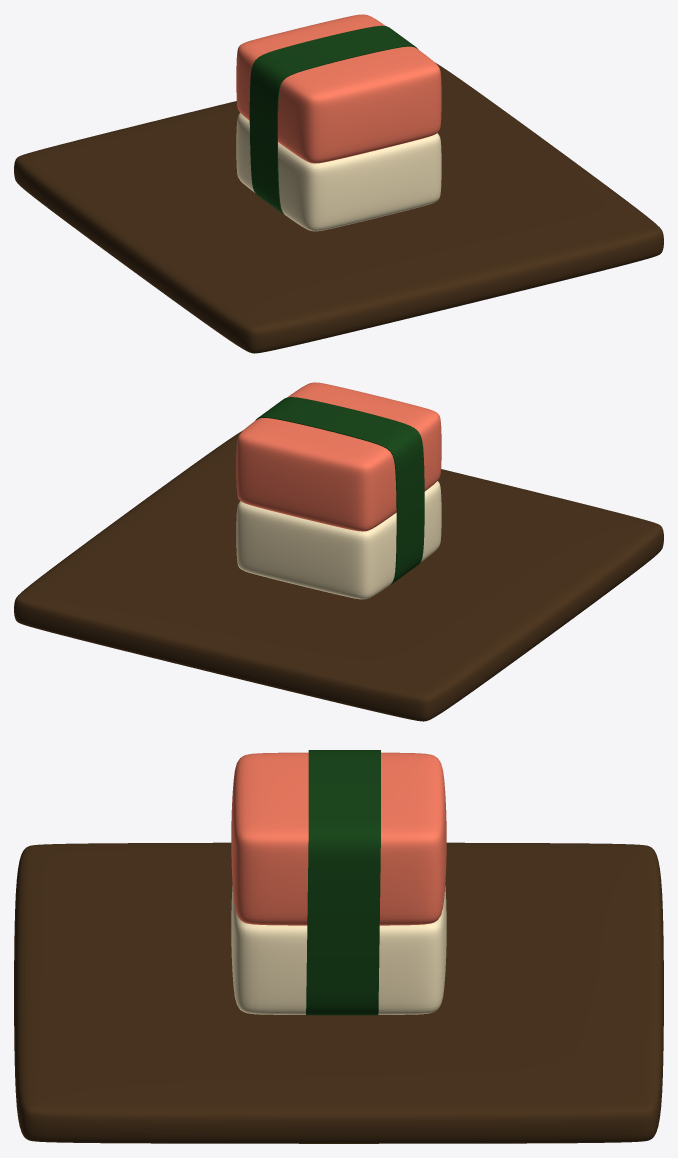
The model's file is roll.fbx.
3 views of the same model, one above another, from view 1: azimuth 30°, elevation 25°; view 2: azimuth 150°, elevation 25°; view 3: azimuth 270°, elevation 25° (orthographic). The views are drawn at different scales.
Visible parts, largest first — view 1: tabbel, rice.001, rice, nori; view 2: tabbel, rice.001, rice, nori; view 3: tabbel, rice.001, nori, rice.
Part boxes in pixels (box(x1,y1,x2,y2)): tabbel: box(14, 62, 663, 353); rice.001: box(236, 14, 441, 163); rice: box(236, 113, 441, 231); nori: box(249, 25, 418, 214); tabbel: box(14, 430, 663, 721); rice.001: box(236, 382, 441, 531); rice: box(236, 481, 441, 599); nori: box(255, 397, 424, 584); tabbel: box(14, 842, 663, 1143); rice.001: box(231, 752, 446, 925); nori: box(306, 750, 380, 1015); rice: box(231, 886, 446, 1014).
Size of the model in its own units: 599 by 231 by 599.
